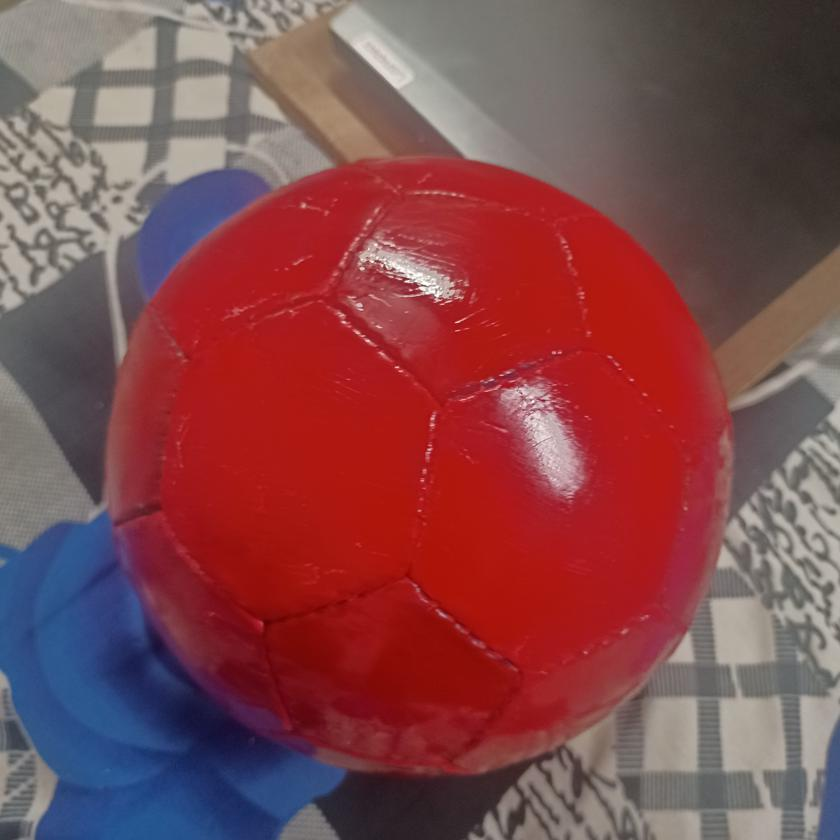Red_Ball: (97, 155, 757, 774)
